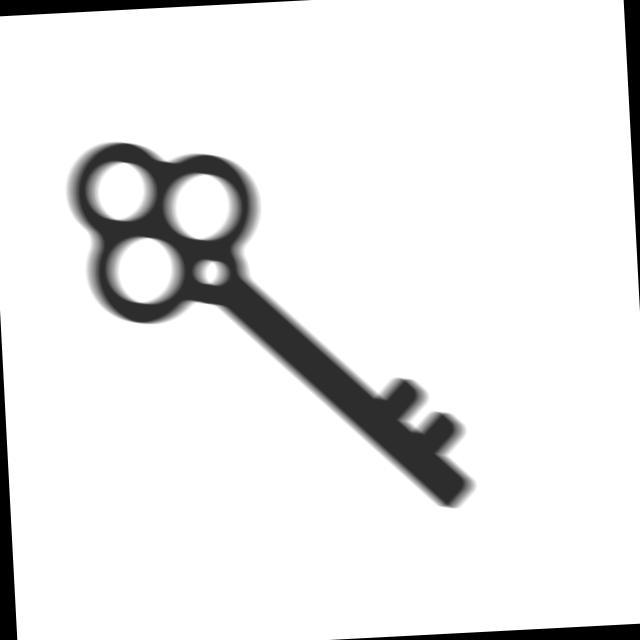key: (57, 116, 484, 533)
